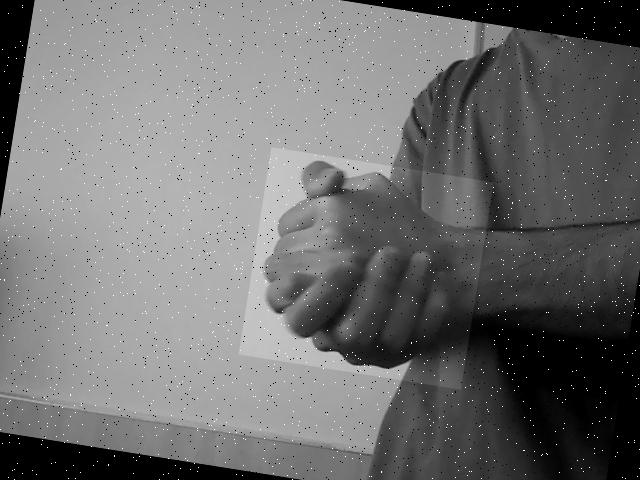friend: (252, 157, 470, 376)
